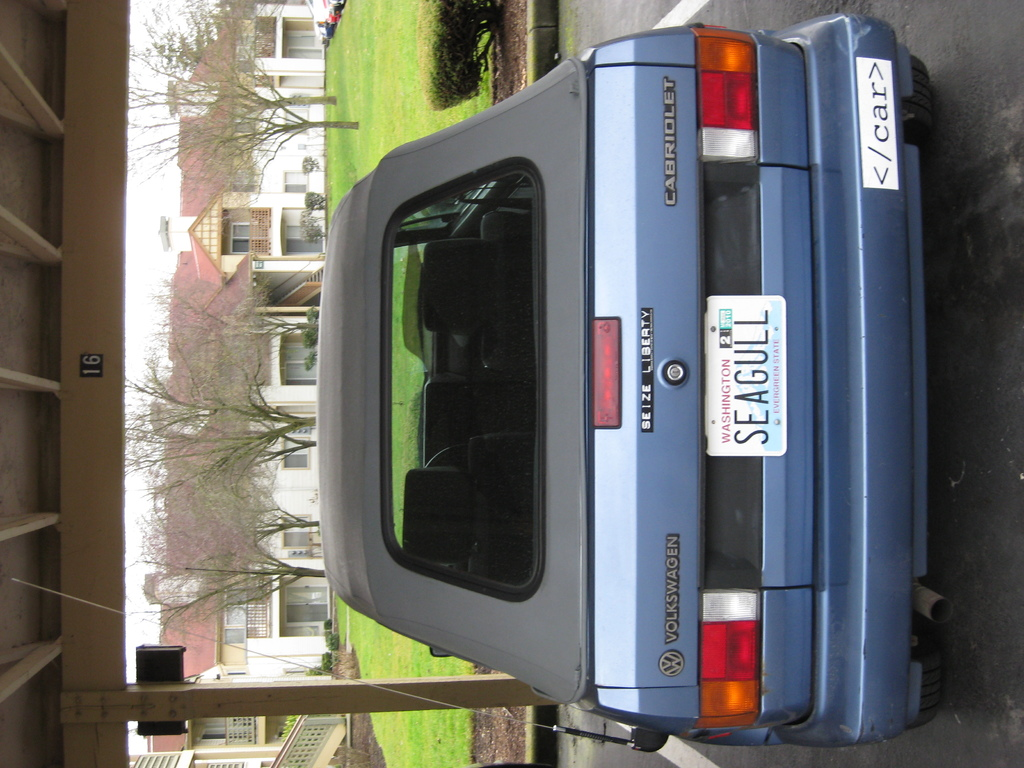Car: (317, 14, 953, 750)
